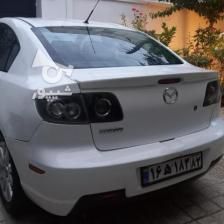plate: (137, 150, 203, 186)
